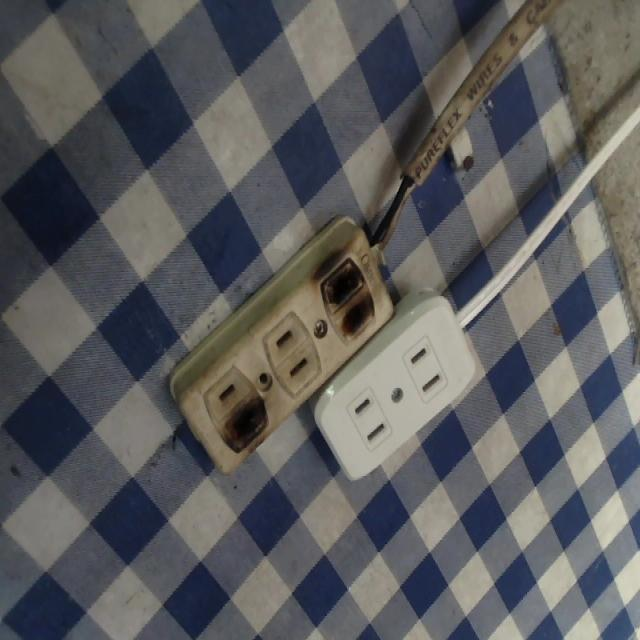-: (316, 252, 380, 329), (219, 396, 273, 457)
